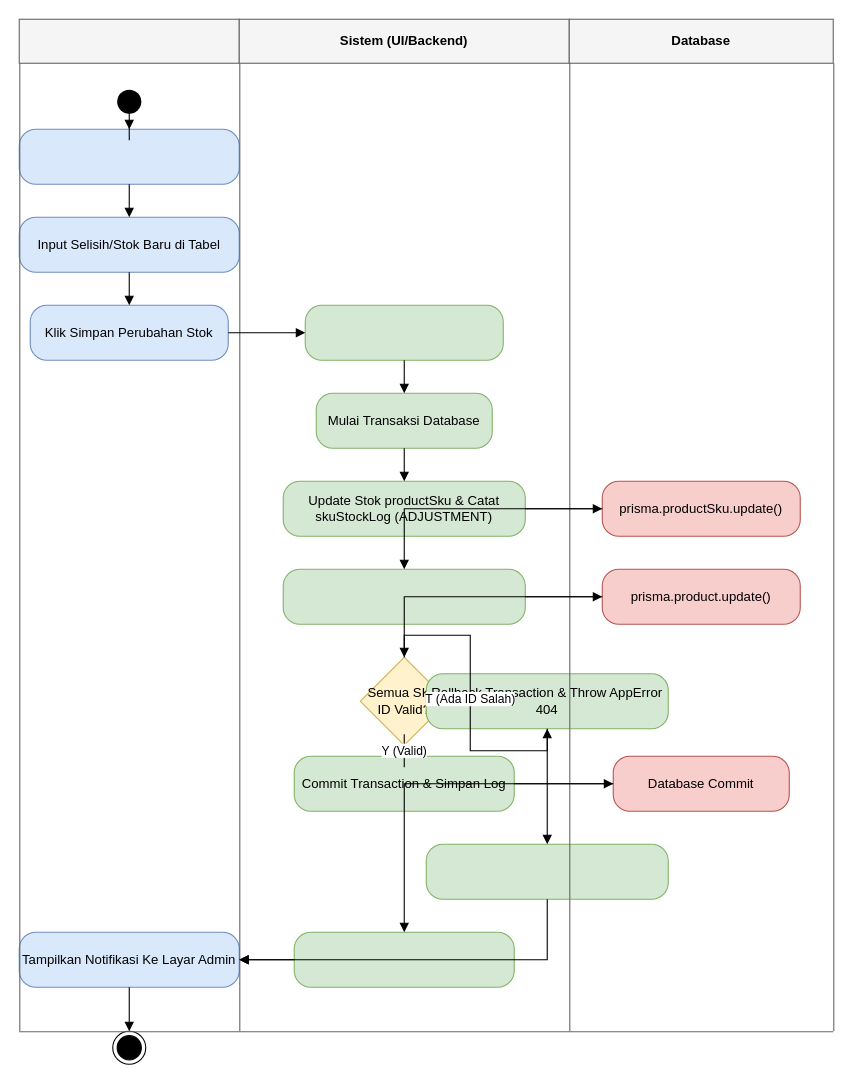
This 854x1084 diagram has some shape labels left out. Each missing label, with the centre of its shape:
"Admin" belongs at pixel 128 40.
"Buka Halaman Penyesuaian Stok" belongs at pixel 128 156.
"Hitung Ulang Total Stok Master & Catat stockLog" belongs at pixel 403 596.
"Kirim Respon Gagal (ID Tidak Valid)" belongs at pixel 546 871.
"Kirim Respon Sukses 200 OK" belongs at pixel 403 959.
"PATCH /api/admin/stock/opname" belongs at pixel 403 332.
